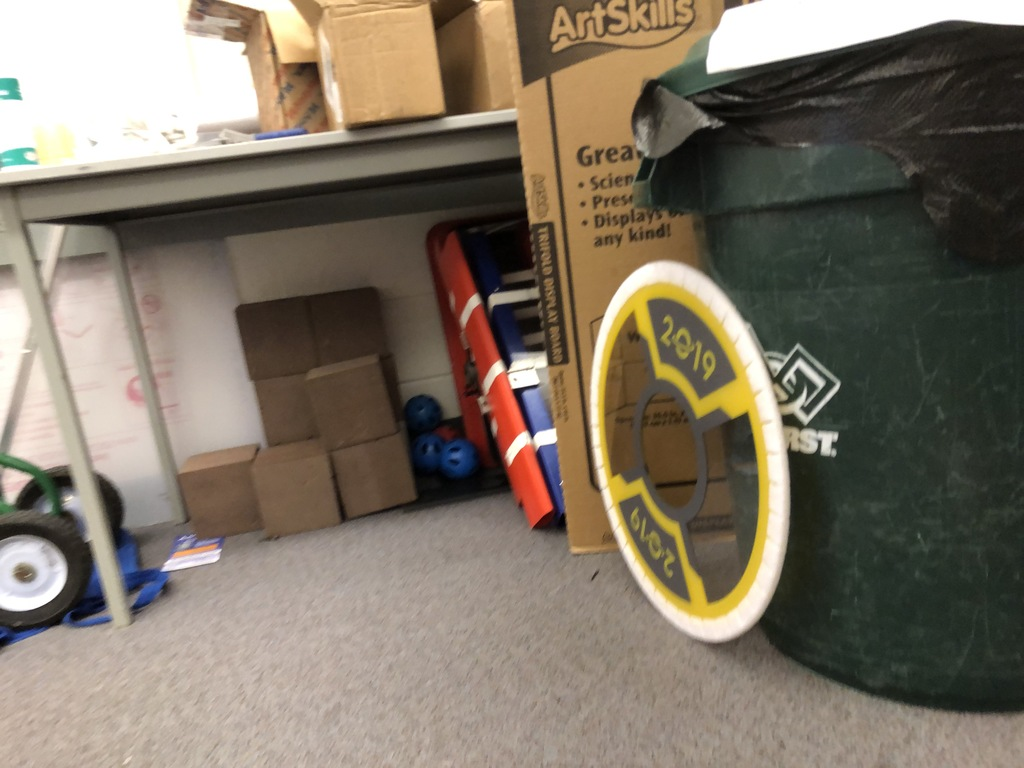hatch_panel: (575, 240, 811, 675)
